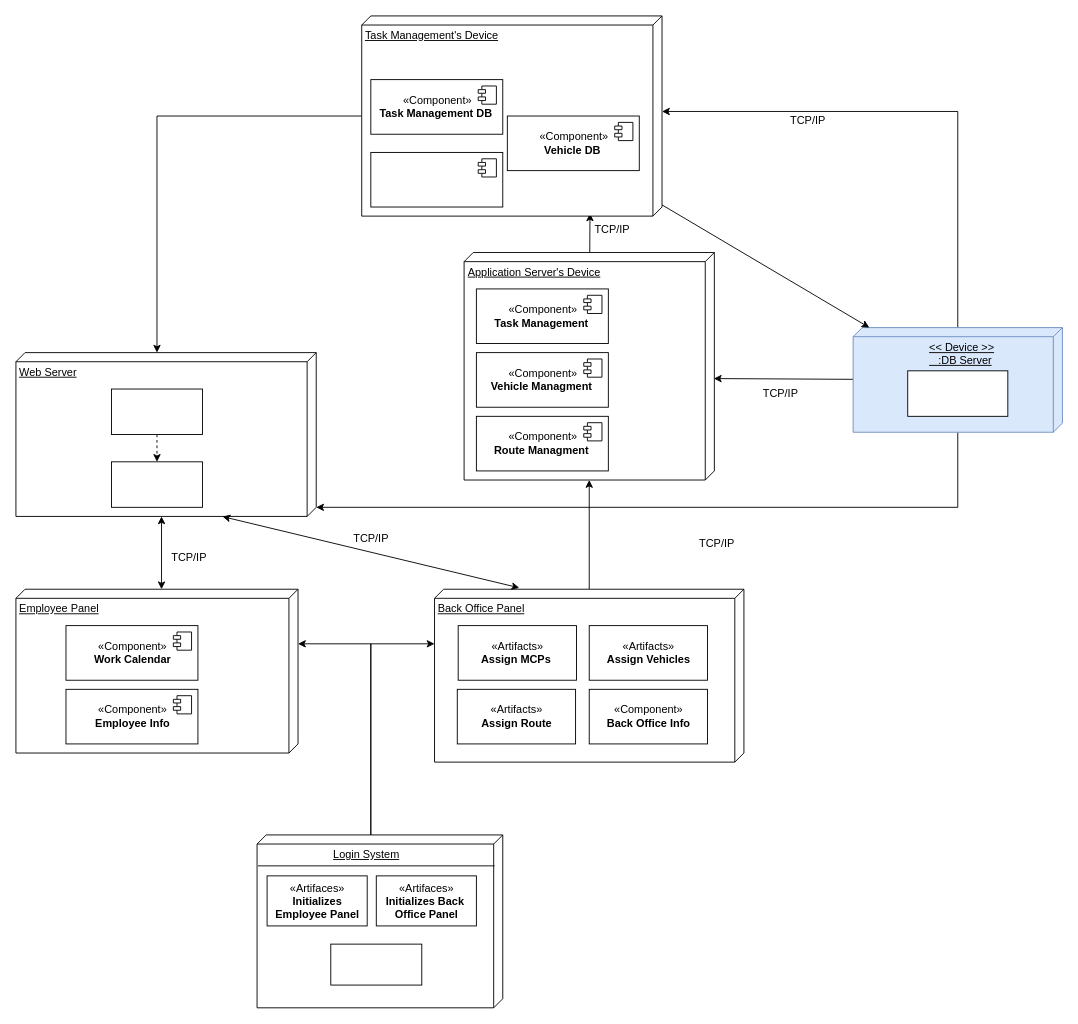
This 1078x1024 diagram has some shape labels left out. Here are the shapes that lost their labels. From the top down, the centre of each, then its label:
At (x=436, y=179): "«Component» Employee DB".
At (x=156, y=411): "«Artifacts» Website".
At (x=957, y=393): "«Artifaces» MySQL Database".
At (x=156, y=484): "«Artifacts» UI".
At (x=376, y=964): "«Artifaces» Register".
